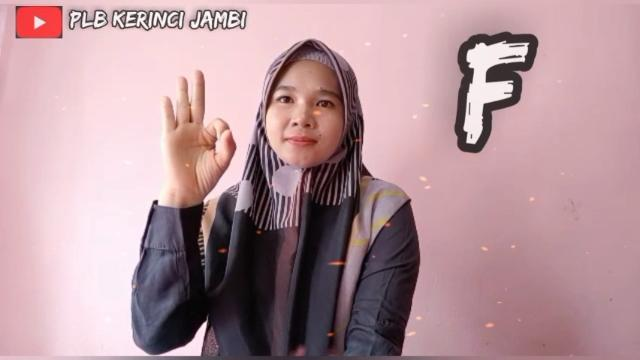F: (157, 68, 237, 198)
